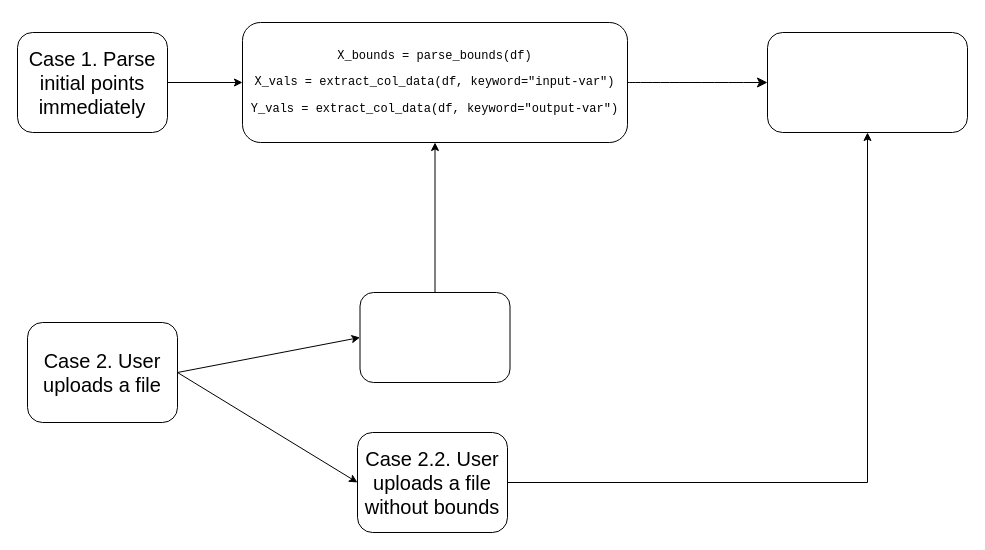
Some shapes in this 985 by 550 pixel diagram are drawn without their labels. Each missing label, with the centre of its shape:
Case 2.1. User uploads a file with bounds: [434,337]
run_boss(...): [867,82]
